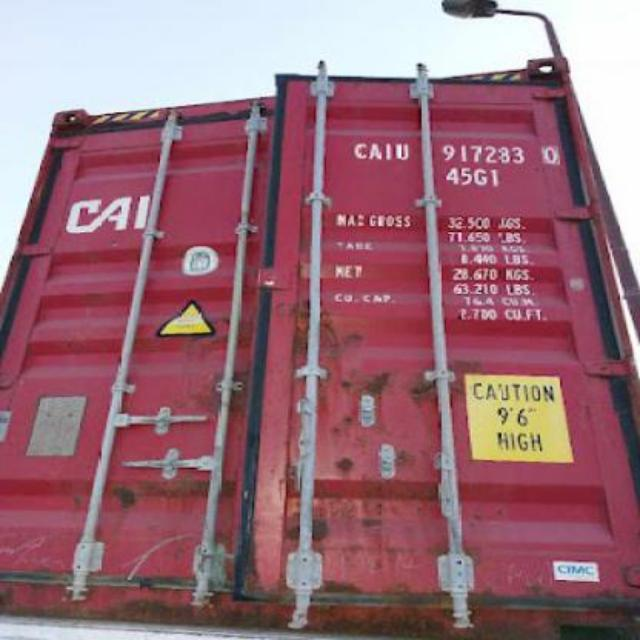0: (540, 142, 562, 168)
1: (456, 138, 468, 166)
2: (484, 142, 498, 164)
3: (508, 142, 526, 166)
7: (466, 138, 482, 164)
8: (498, 139, 510, 165)
9: (441, 140, 454, 164)
A: (366, 136, 379, 164)
C: (354, 138, 368, 164)
I: (384, 136, 394, 166)
U: (396, 138, 409, 162)
